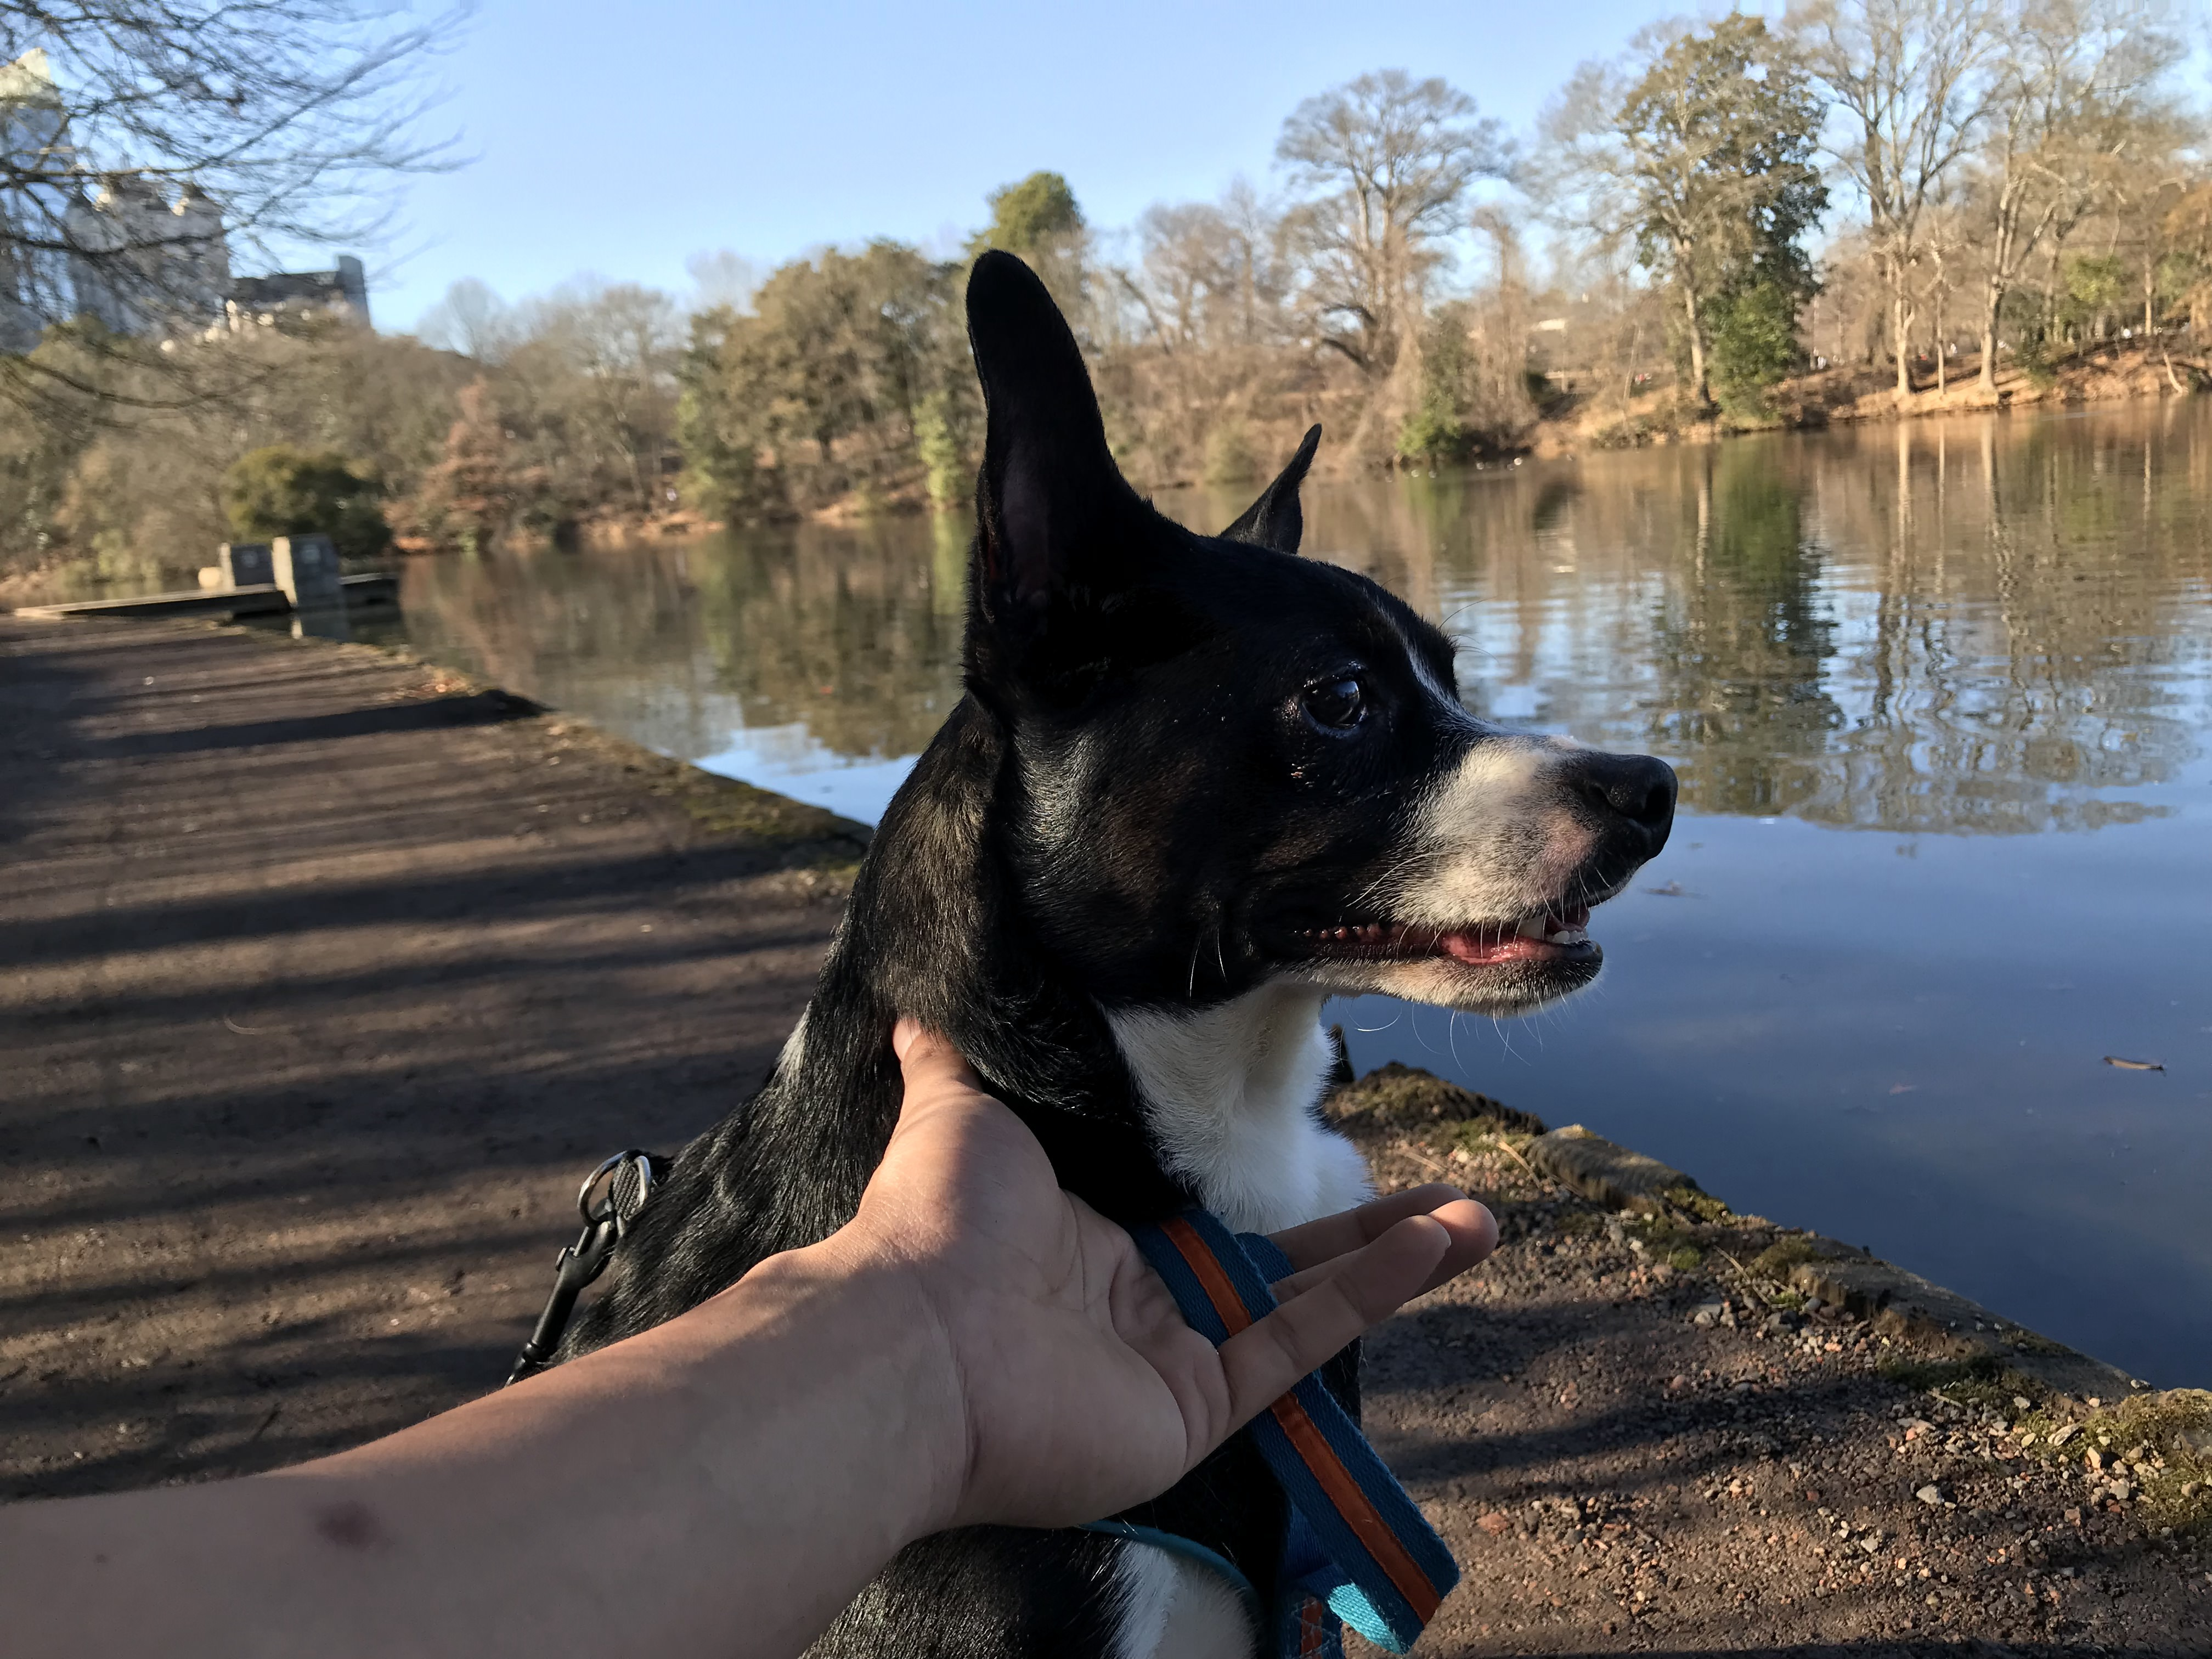Harley: (857, 228, 1726, 1115)
